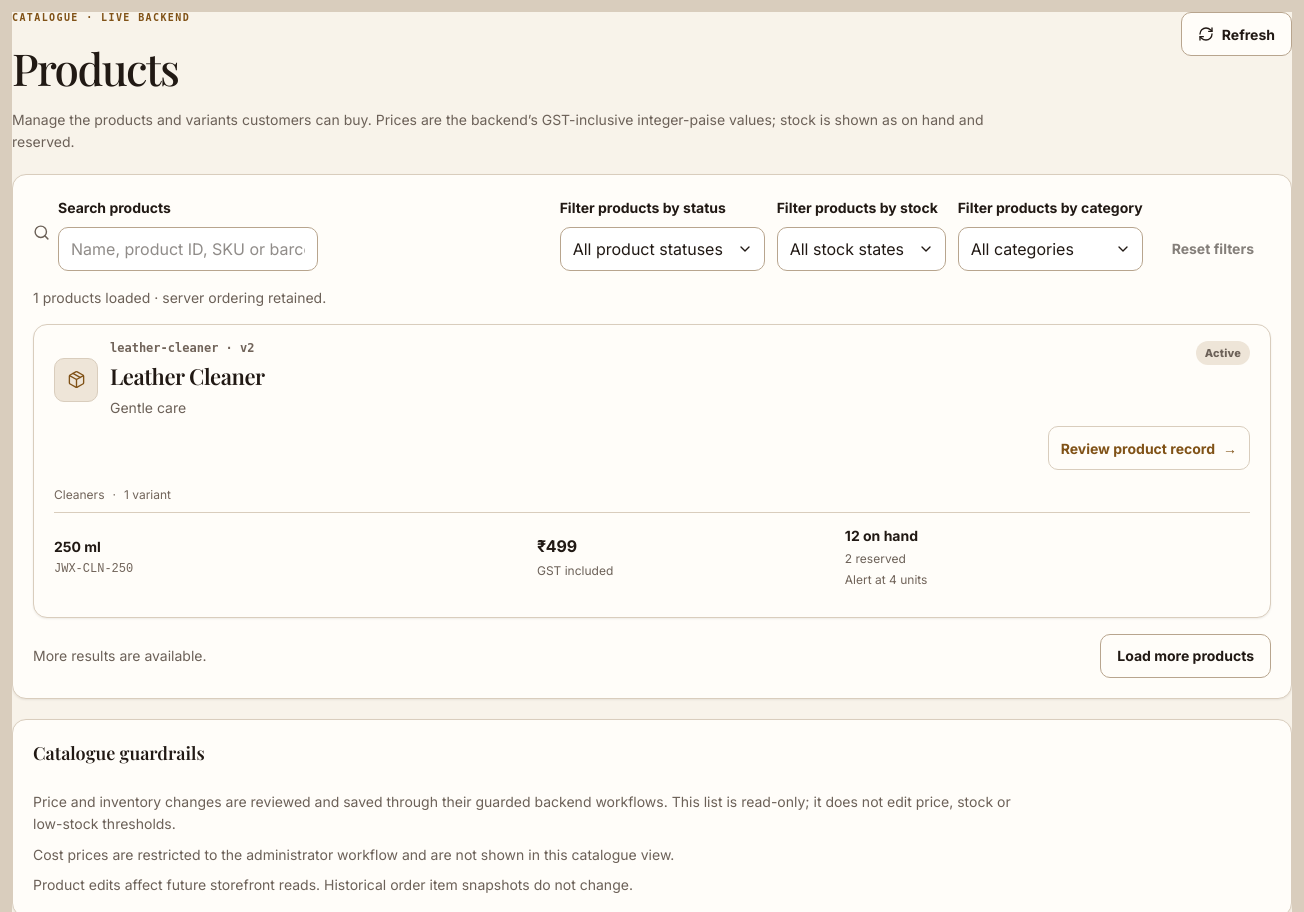
Test: ProductsQueue › loads the next backend cursor exactly once and appends only the returned products
Check: the heading "Leather Cleaner" is shown, box top-left (110, 360), bottom-right (265, 393)
Click the button "Load more products": (1186, 656) top-left (1100, 634), bottom-right (1271, 678)
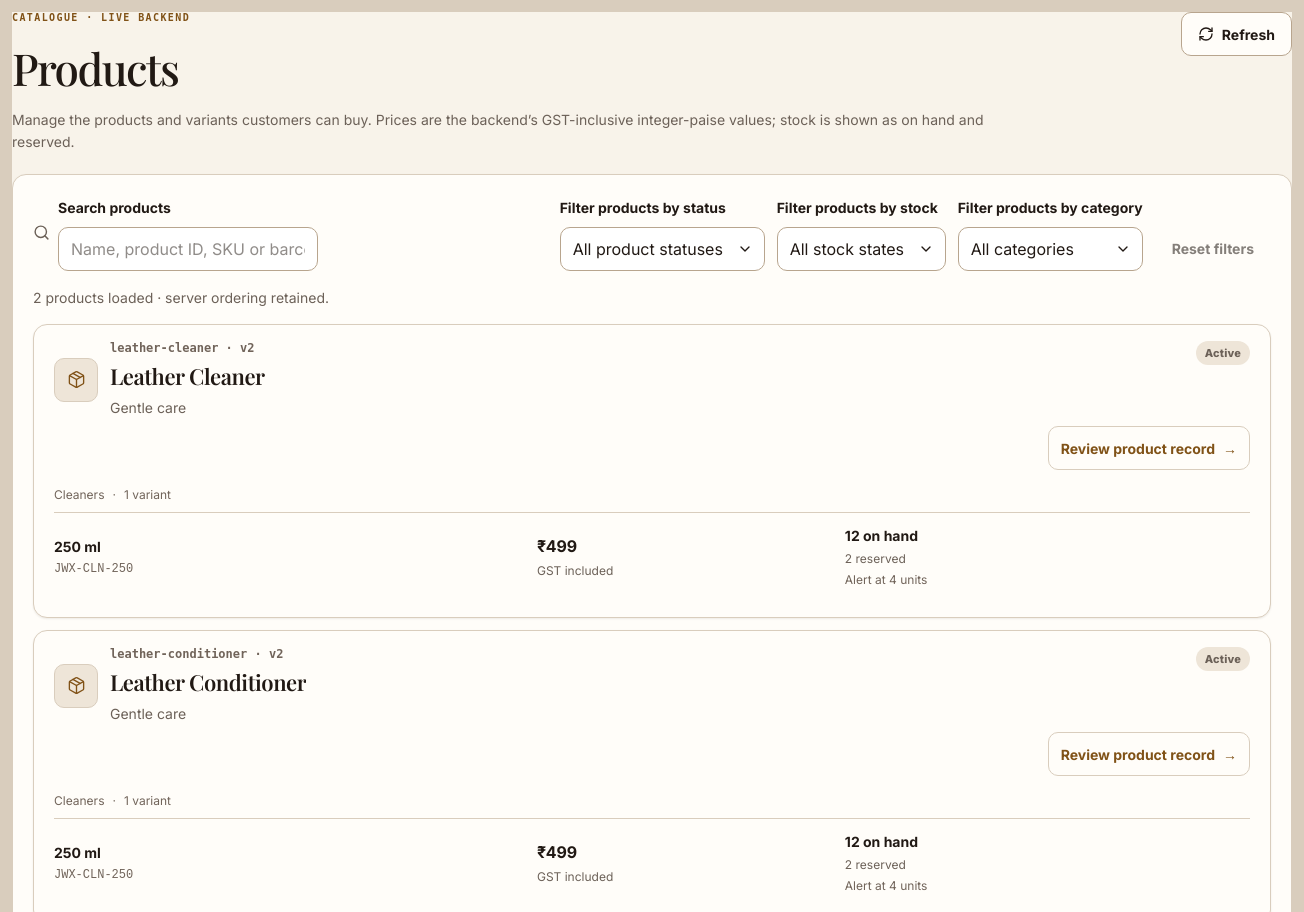
Check: the heading "Leather Conditioner" is shown, box top-left (110, 666), bottom-right (306, 699)
